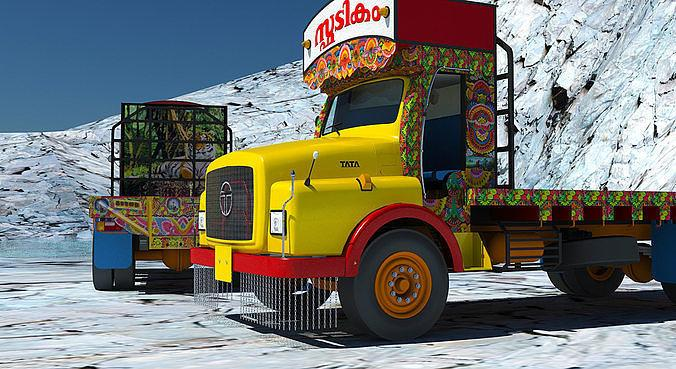truck: (188, 1, 676, 343)
